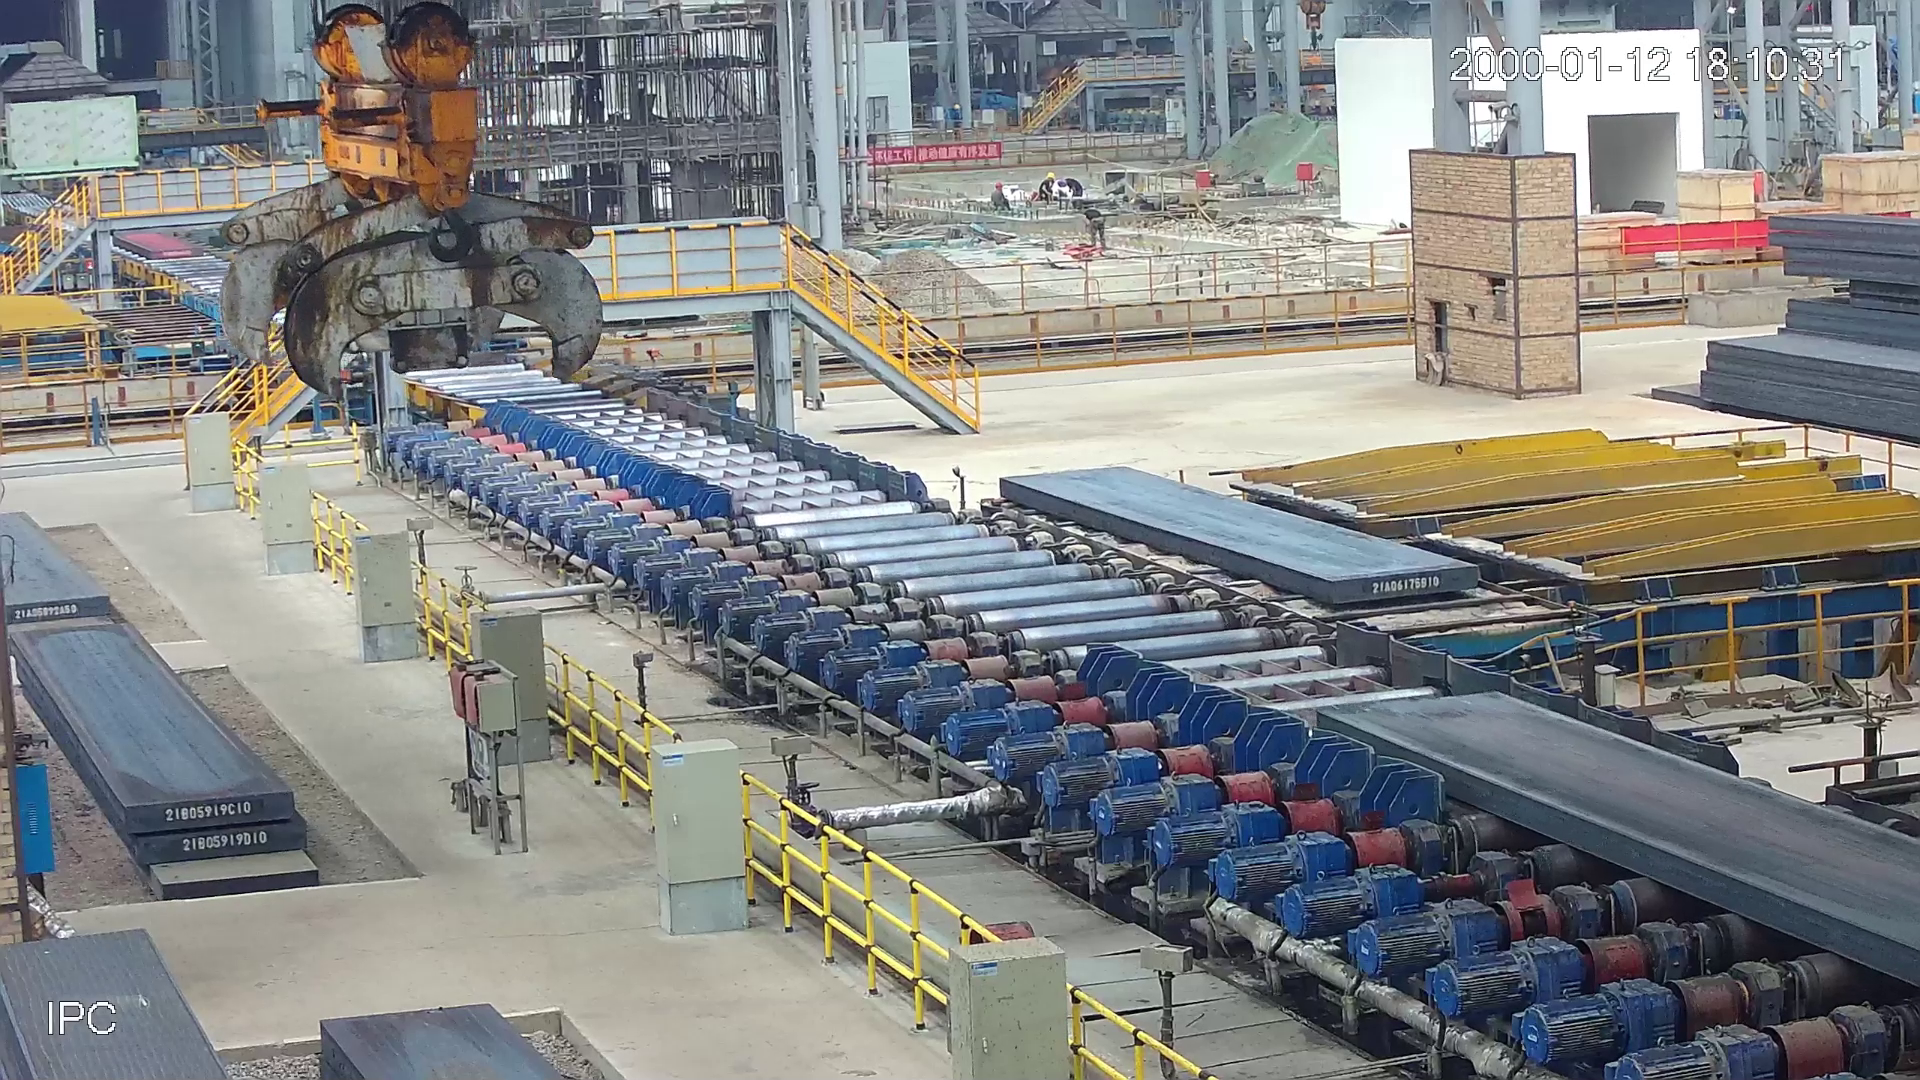crane: (211, 1, 612, 400)
slab: (1315, 680, 1920, 981), (988, 456, 1489, 607), (111, 227, 206, 262)
